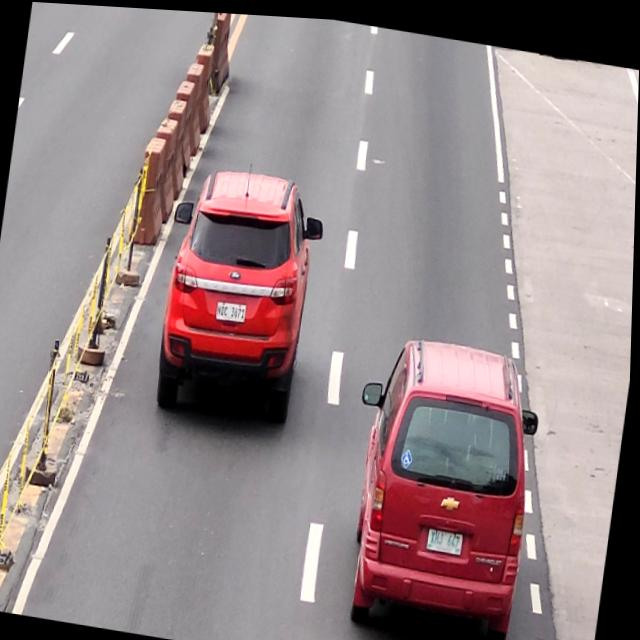Car: (334, 319, 551, 640), (149, 153, 331, 426)
License-Plate: (429, 523, 465, 549), (217, 296, 249, 321)
